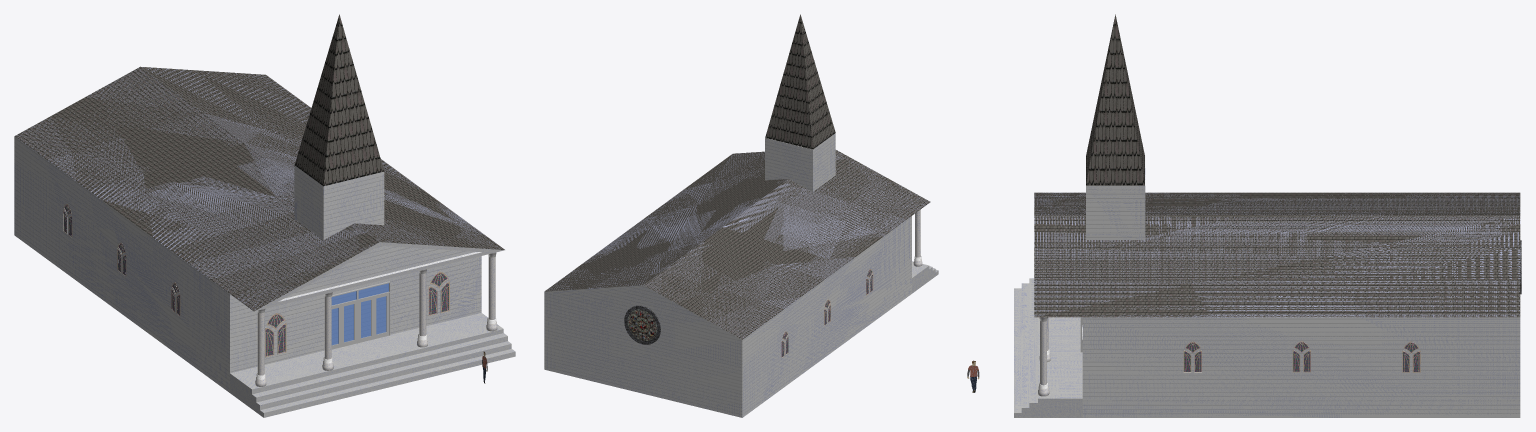
3 views of the same model, side by side, from view 1: azimuth 30°, elevation 25°; view 2: azimuth 150°, elevation 25°; view 3: azimuth 270°, elevation 25° (orthographic). The views are drawn at different scales.
Parts seen in each view (by area): view 1: SketchUp (×7), Pyramid, Marble_Pillar (×4); view 2: SketchUp (×4), Pyramid, group_4 (×2); view 3: SketchUp (×4), Pyramid.
Part boxes in pixels (x1=…): SketchUp (×7): x1=14, y1=66, x2=515, y2=417; Pyramid: x1=294, y1=14, x2=384, y2=186; Marble_Pillar (×4): x1=257, y1=257, x2=495, y2=375; SketchUp (×4): x1=544, y1=133, x2=938, y2=417; Pyramid: x1=765, y1=14, x2=835, y2=149; group_4 (×2): x1=624, y1=305, x2=660, y2=344; SketchUp (×4): x1=1014, y1=185, x2=1520, y2=417; Pyramid: x1=1086, y1=14, x2=1144, y2=185.
Bounding box in the file's own units: 592 × 1109 × 753.
Materials: 21 (9 with a texture image).
